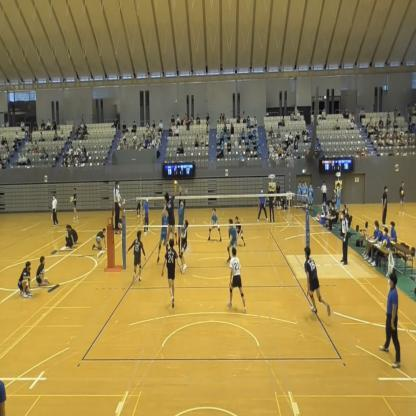spike: (162, 178, 179, 250)
